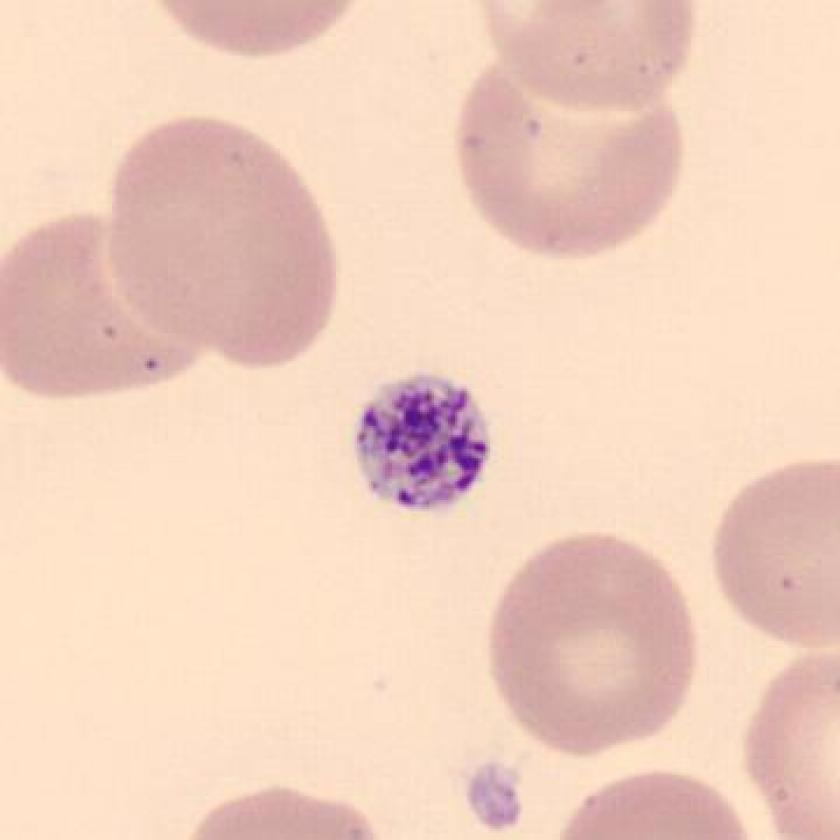platelets: (342, 364, 505, 531)
